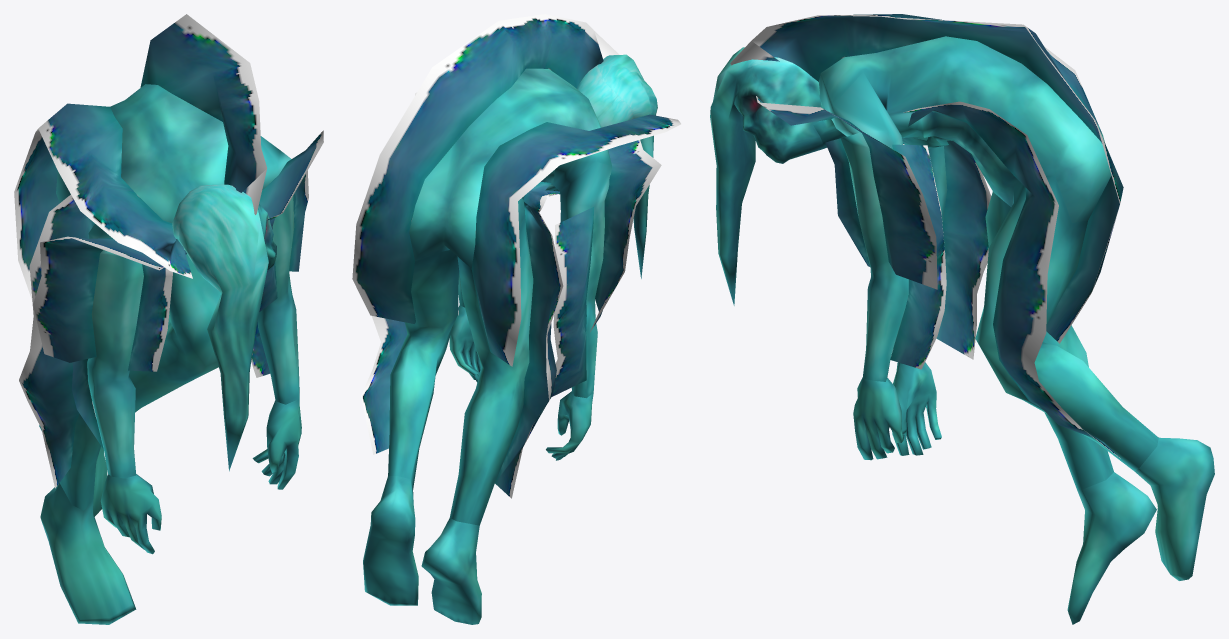
The model's file is Possession.fbx.
The picture shows the model from 3 angles, left to right: view 1: azimuth 30°, elevation 25°; view 2: azimuth 150°, elevation 25°; view 3: azimuth 270°, elevation 25°; orthographic projection. The views are drawn at different scales.
Parts seen in each view (by area): view 1: Effect, Body, Head; view 2: Effect, Body, Head; view 3: Effect, Body, Head.
Boxes of the visible parts, x1,y1,x2,y2 form: Effect: [14, 14, 323, 488]; Body: [56, 84, 299, 510]; Head: [39, 184, 301, 624]; Effect: [352, 14, 680, 498]; Body: [388, 68, 611, 525]; Head: [363, 54, 657, 624]; Effect: [730, 14, 1123, 458]; Body: [813, 36, 1158, 489]; Head: [710, 47, 1214, 624].
Bounding box in the file's own units: 607 × 1319 × 963.
3 materials, 3 textured.
